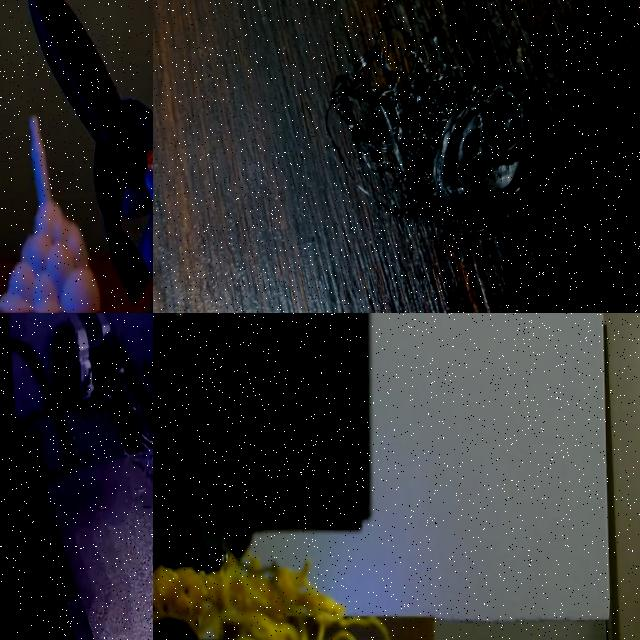spaghetti: (324, 8, 468, 257), (153, 556, 387, 640), (123, 416, 153, 486)
